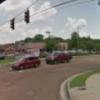cars: (46, 52, 72, 64)
